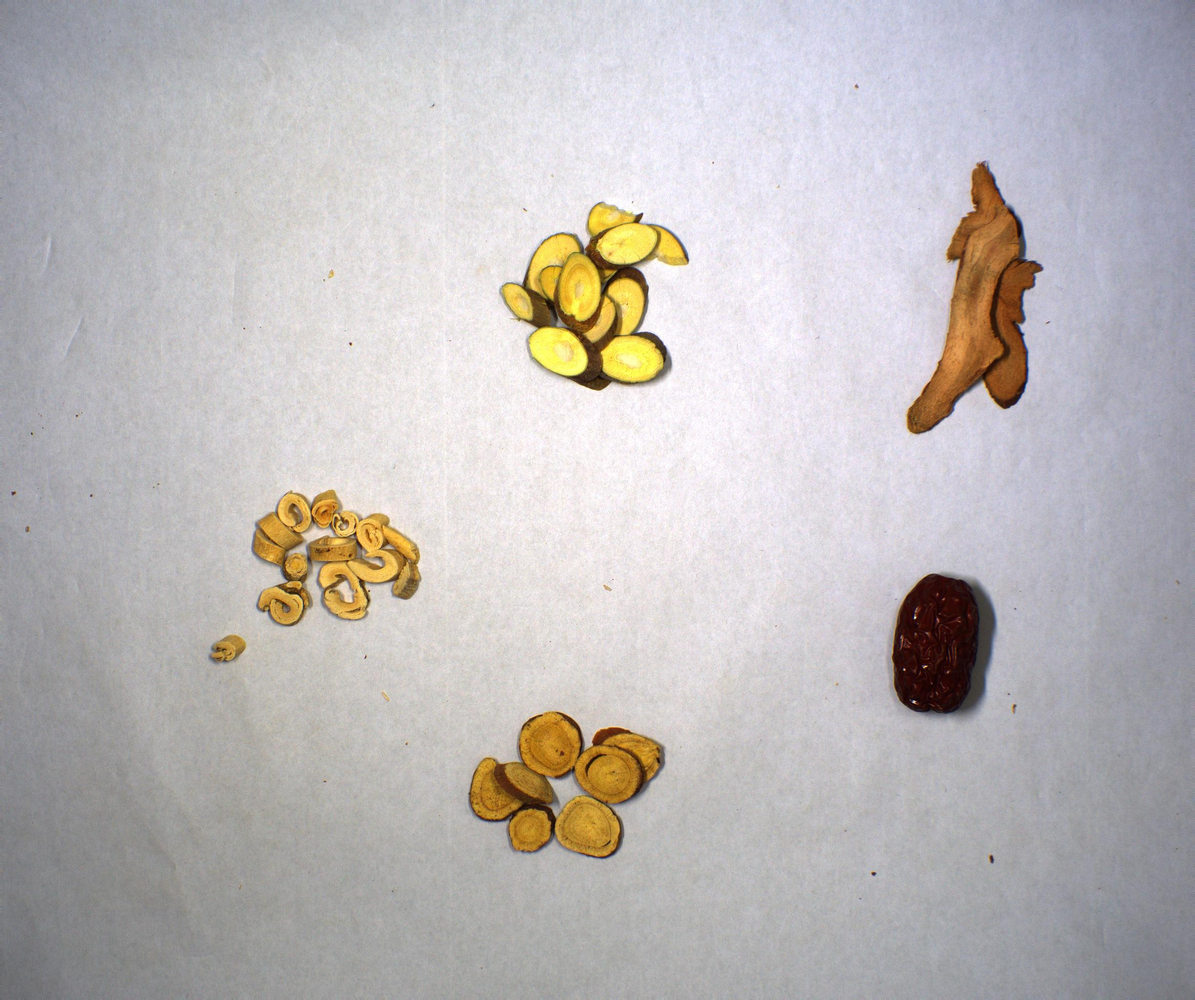baixianpi: (213, 491, 426, 662)
dazao: (886, 564, 1006, 724)
gancaopian: (459, 709, 666, 858)
gaoliangjiang: (900, 160, 1047, 435)
sangzhi: (499, 197, 687, 388)
